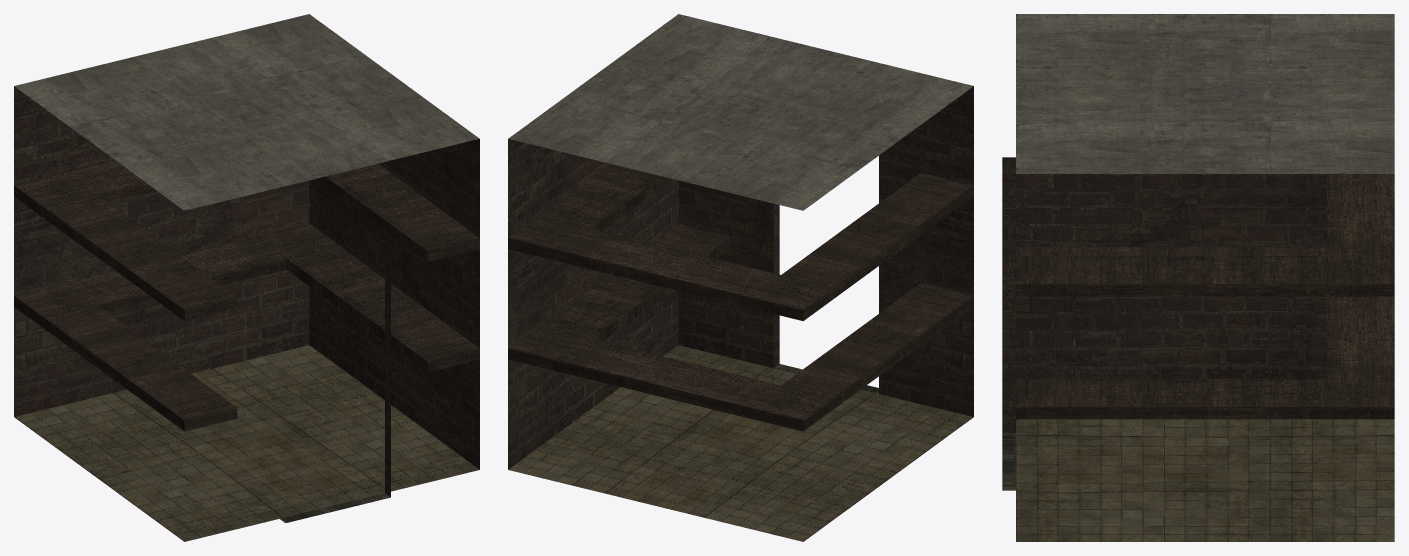
File: handymans_room.glb
3 renders of one model, left to right at view 1: azimuth 30°, elevation 25°; view 2: azimuth 150°, elevation 25°; view 3: azimuth 270°, elevation 25°, orthographic. The views are drawn at different scales.
Visible parts, largest first — view 1: Handymans_Room-col; view 2: Handymans_Room-col; view 3: Handymans_Room-col.
Boxes of the visible parts, bbox=[...] form: Handymans_Room-col: bbox=[14, 14, 479, 541]; Handymans_Room-col: bbox=[508, 14, 973, 541]; Handymans_Room-col: bbox=[1002, 14, 1394, 541].
Size of the model in its own units: 2.8 by 3 by 2.9.
Materials: 4 (4 with a texture image).
